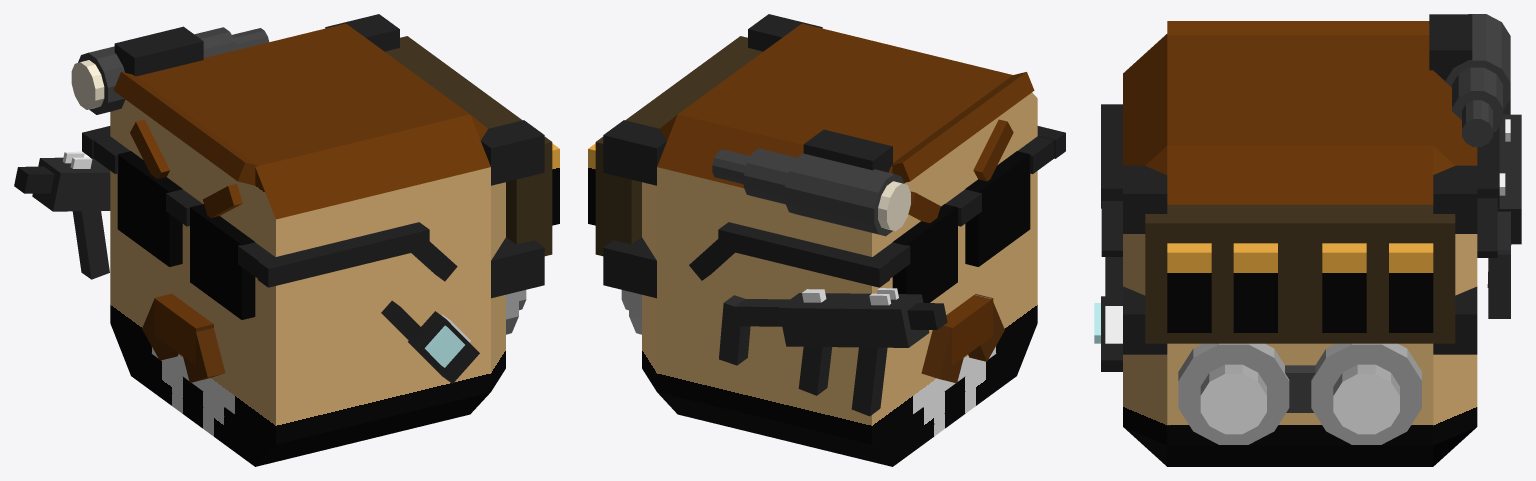
The model's file is playerShootingsmg.gltf.
The picture shows the model from 3 angles, left to right: view 1: azimuth 30°, elevation 25°; view 2: azimuth 150°, elevation 25°; view 3: azimuth 270°, elevation 25°; orthographic projection. The views are drawn at different scales.
Parts seen in each view (by area): view 1: beveled_cuboid, cube; view 2: beveled_cuboid, cube; view 3: beveled_cuboid, cube.
Part boxes in pixels (x1,y1,x2,y2): beveled_cuboid: (71,14,559,466); cube: (14,151,110,279); beveled_cuboid: (588,14,1065,466); cube: (719,288,947,416); beveled_cuboid: (1094,14,1510,466); cube: (1487,99,1521,318).
Bounding box in the file's own units: 1.34 × 1.06 × 1.21.
5 materials, 5 textured.
